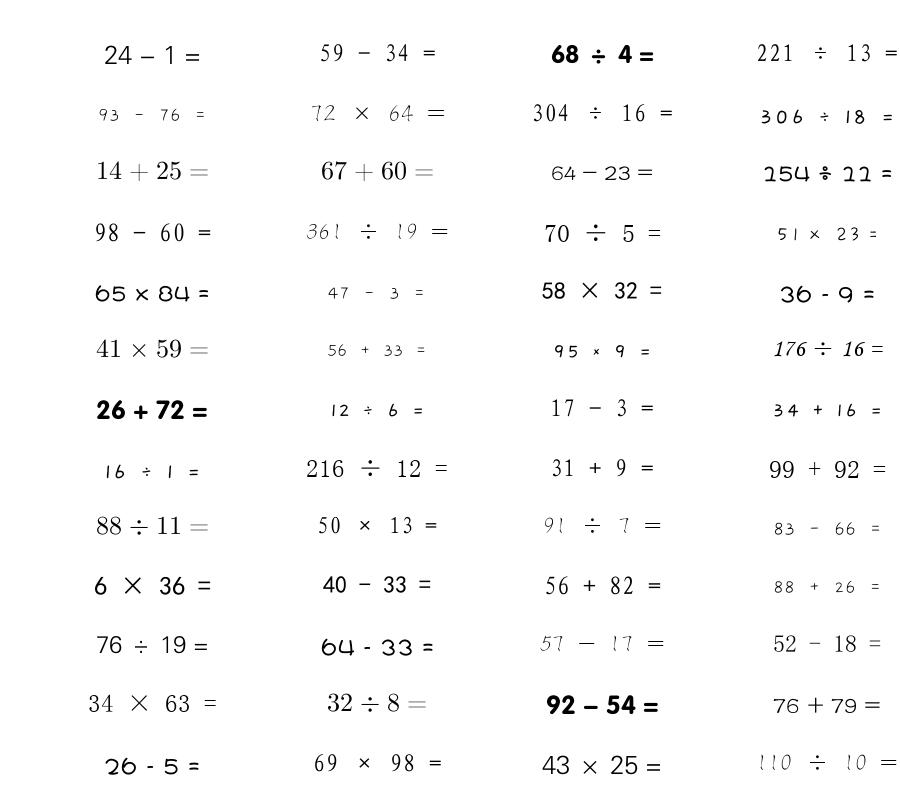MQ: (756, 44, 898, 62), (531, 104, 673, 122), (306, 459, 448, 477), (306, 223, 449, 240), (310, 104, 445, 122), (756, 754, 898, 771), (542, 755, 662, 775), (96, 161, 209, 182), (321, 161, 434, 182), (88, 694, 217, 712), (313, 754, 442, 772), (546, 695, 659, 715), (96, 400, 208, 420), (94, 223, 211, 242), (94, 576, 211, 595), (544, 576, 661, 595), (317, 516, 437, 534), (96, 339, 209, 358), (96, 516, 209, 535), (96, 635, 209, 654), (540, 635, 665, 652), (319, 44, 436, 62), (544, 224, 661, 242), (762, 166, 893, 182), (551, 44, 654, 64), (759, 109, 895, 124), (542, 282, 662, 299), (321, 638, 434, 656), (543, 517, 662, 534), (769, 461, 886, 478), (95, 285, 210, 302), (323, 576, 431, 594), (327, 693, 427, 712), (550, 399, 654, 417), (550, 459, 654, 477), (104, 45, 201, 64), (773, 635, 881, 652), (773, 697, 881, 714), (772, 341, 883, 357), (779, 285, 875, 303), (104, 757, 200, 775), (772, 403, 883, 417), (551, 166, 653, 181), (776, 227, 878, 242), (98, 108, 207, 122), (773, 522, 882, 536), (773, 580, 882, 594), (104, 464, 201, 479), (330, 403, 425, 417), (327, 344, 427, 357), (552, 345, 652, 358), (328, 287, 426, 300)
